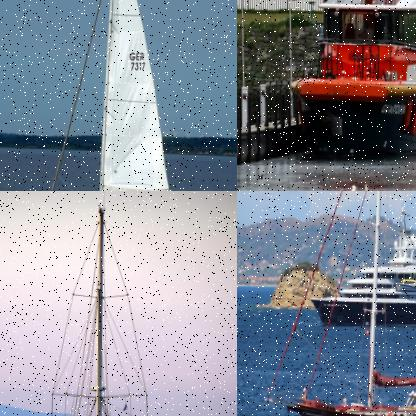Patrol Boat: (287, 0, 415, 164)
Sails Boat: (262, 191, 415, 415), (38, 0, 209, 190), (35, 201, 167, 415)
Yacht: (308, 203, 415, 330)
